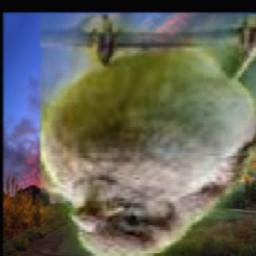Sparrow: (40, 14, 256, 256)
